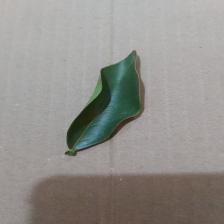healthy: (67, 48, 141, 150), (140, 150, 141, 151)
